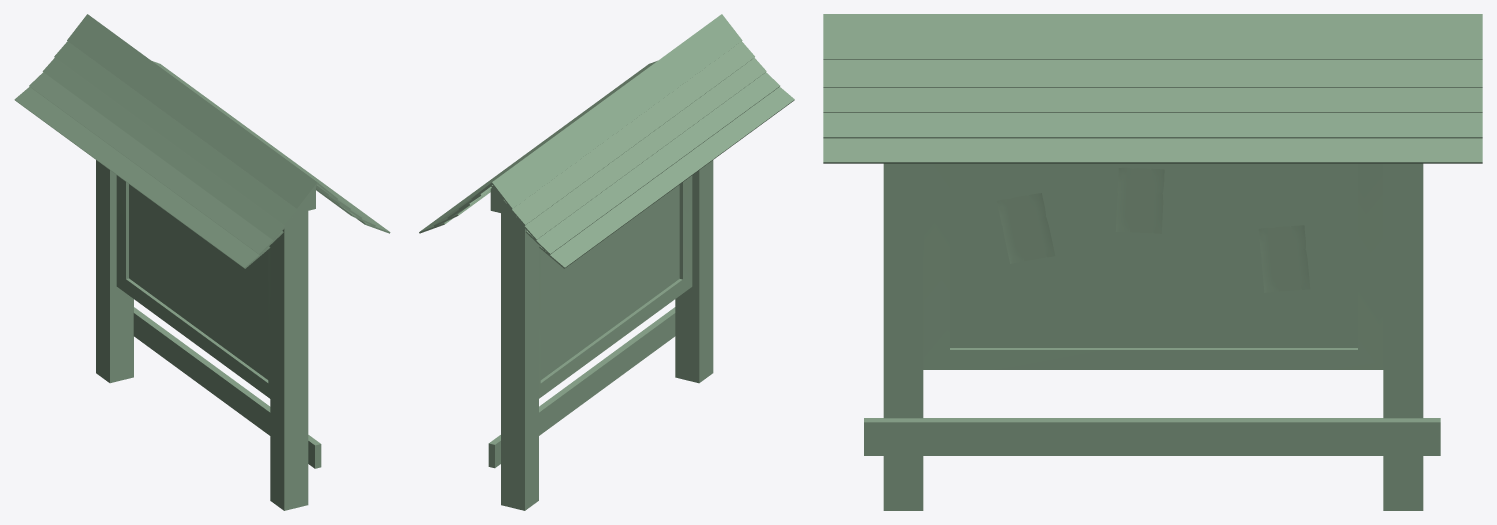
Rendered from bulletin_board.fbx.
3 renders of one model, left to right at view 1: azimuth 30°, elevation 25°; view 2: azimuth 150°, elevation 25°; view 3: azimuth 270°, elevation 25°, orthographic. The views are drawn at different scales.
Parts seen in each view (by area): view 1: bulletin_board1; view 2: bulletin_board1; view 3: bulletin_board1.
Boxes of the visible parts, x1,y1,x2,y2 form: bulletin_board1: (14,14,390,510); bulletin_board1: (419,14,794,510); bulletin_board1: (823,14,1482,510).
Bounding box in the file's own units: 152 × 340 × 416.
